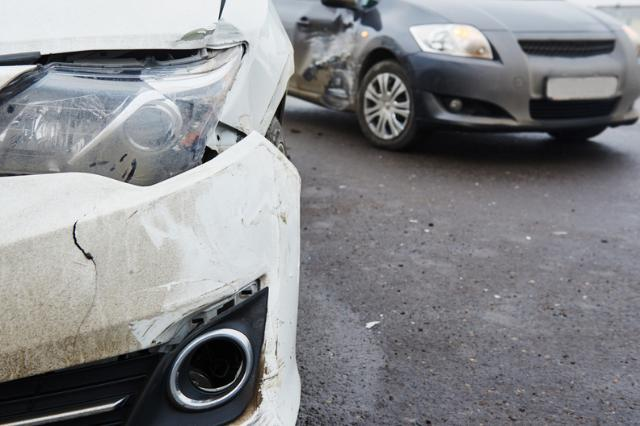Bumper: (0, 137, 359, 426)
Fender: (212, 0, 324, 144)
Light: (0, 51, 255, 198)
